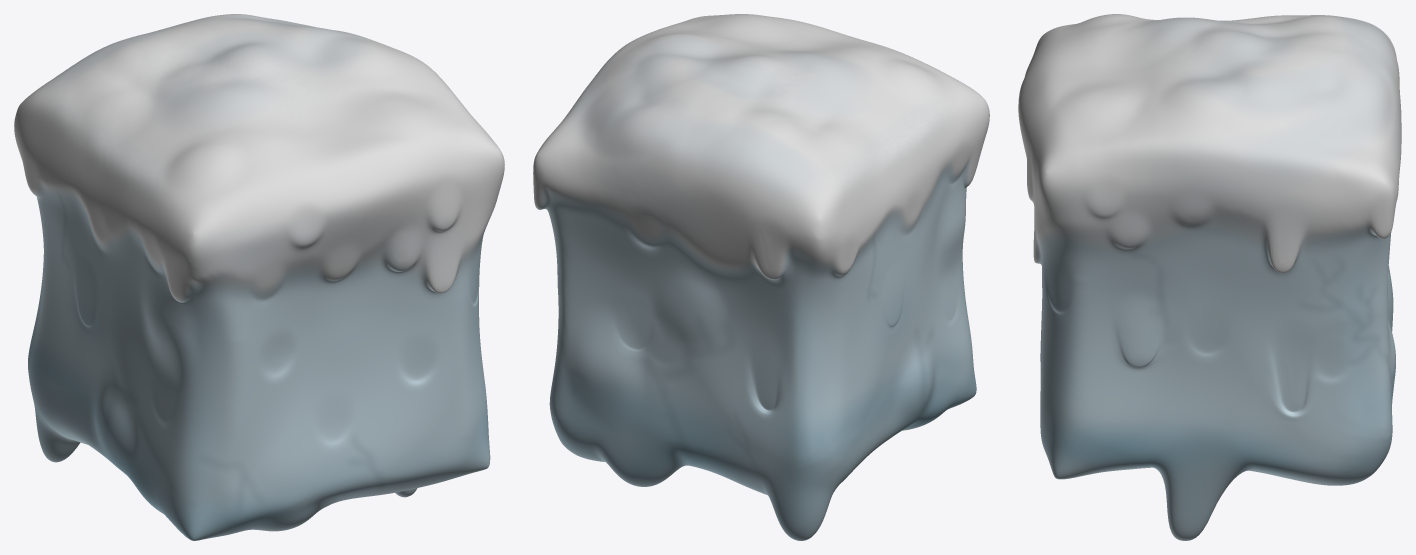
The model's file is ice_cube.glb.
3 views of the same model, side by side, from view 1: azimuth 30°, elevation 25°; view 2: azimuth 150°, elevation 25°; view 3: azimuth 270°, elevation 25° (orthographic). The views are drawn at different scales.
Visible parts, largest first — view 1: Geode; view 2: Geode; view 3: Geode.
Part boxes in pixels (box(x1,y1,x2,y2)): Geode: box(14, 14, 504, 540); Geode: box(533, 14, 989, 540); Geode: box(1018, 14, 1401, 540).
Size of the model in its own units: 42.44 by 55.89 by 43.84.
